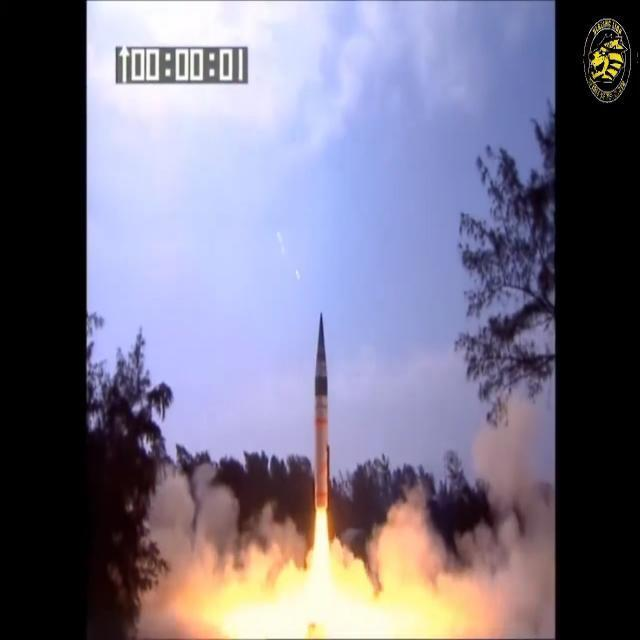Missile: (313, 315, 332, 505)
